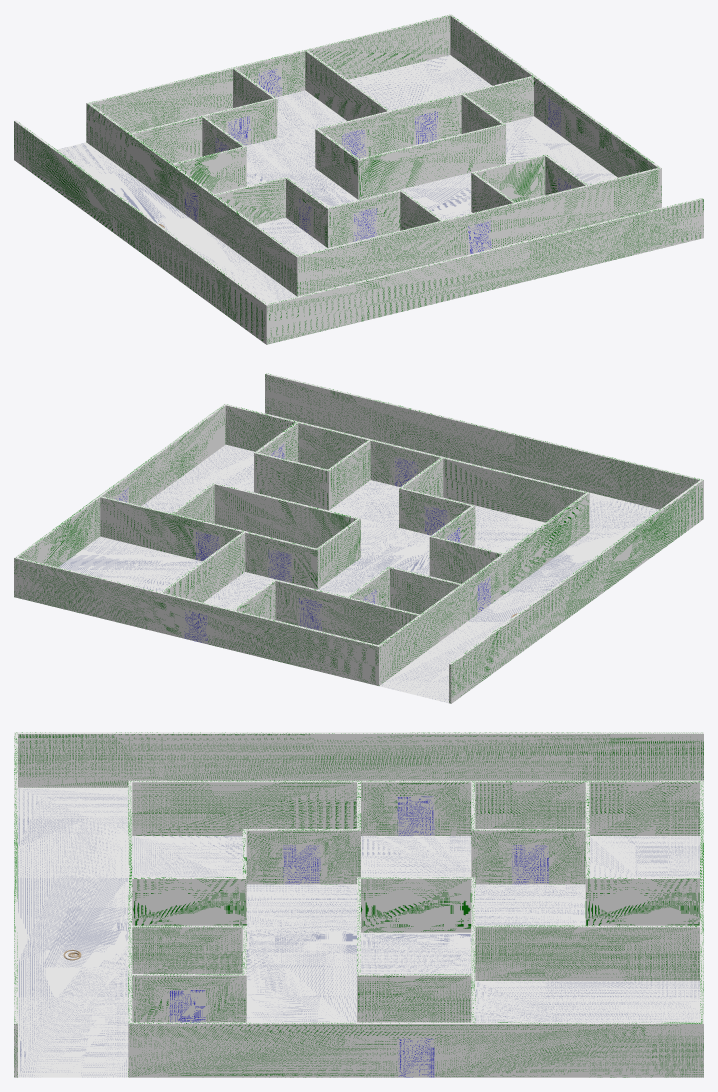
3 views of the same model, one above another, from view 1: azimuth 30°, elevation 25°; view 2: azimuth 150°, elevation 25°; view 3: azimuth 270°, elevation 25° (orthographic). The views are drawn at different scales.
Parts seen in each view (by area): view 1: SketchUp (×19); view 2: SketchUp (×19); view 3: SketchUp (×20).
Boxes of the visible parts, left/top/right/bottom form: SketchUp (×19): left=14, top=14, right=703, bottom=344; SketchUp (×19): left=14, top=373, right=703, bottom=703; SketchUp (×20): left=14, top=732, right=703, bottom=1077.
Size of the model in its own units: 1050 by 1050 by 90.
